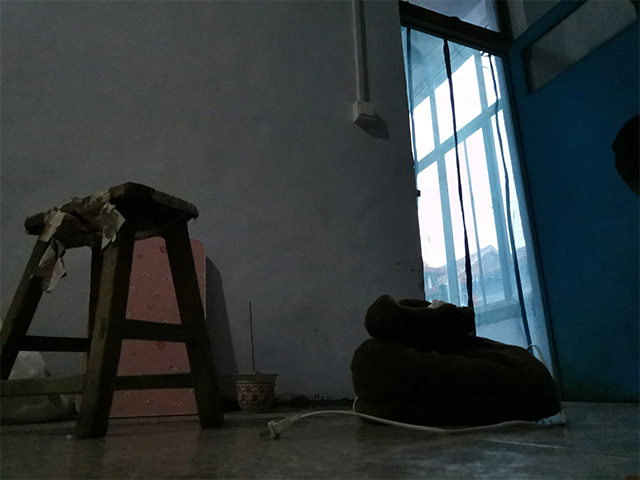stool: (1, 179, 226, 441)
wire: (255, 407, 567, 441)
